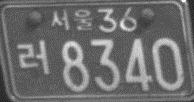0: (153, 36, 184, 91)
3: (90, 38, 120, 92), (97, 6, 116, 33)
4: (124, 38, 152, 91)
6: (118, 5, 137, 33)
8: (60, 39, 89, 93)
러: (14, 38, 50, 75)
서울_O: (51, 8, 94, 33)
